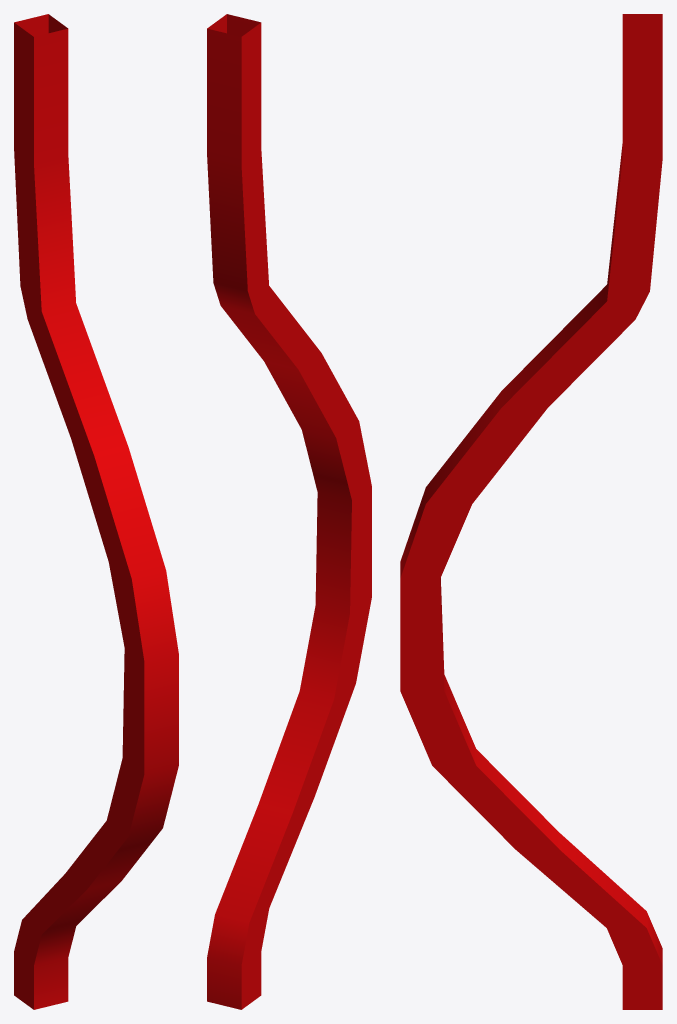
The model's file is Railing Window.fbx.
3 views of the same model, side by side, from view 1: azimuth 30°, elevation 25°; view 2: azimuth 150°, elevation 25°; view 3: azimuth 270°, elevation 25° (orthographic).
Visible parts, largest first — view 1: Railing Window; view 2: Railing Window; view 3: Railing Window.
Boxes of the visible parts, bbox=[...] form: Railing Window: bbox=[14, 14, 178, 1009]; Railing Window: bbox=[207, 14, 371, 1009]; Railing Window: bbox=[400, 14, 662, 1009].
Size of the model in its own units: 5 by 135 by 32.8.
